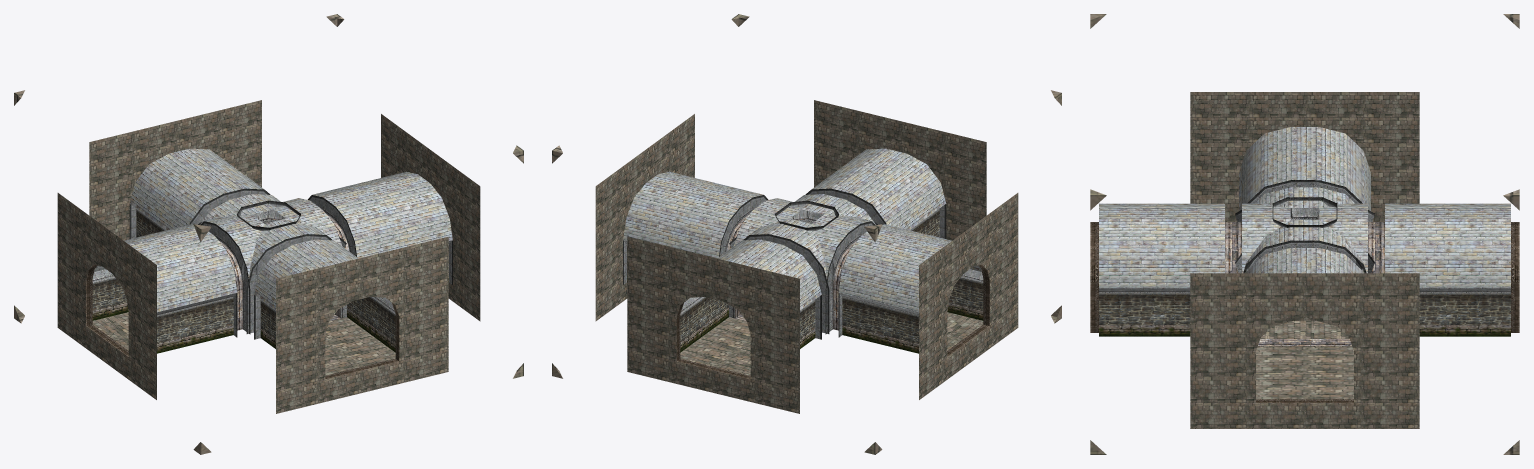
File: lbg_4d.glb
3 views of the same model, side by side, from view 1: azimuth 30°, elevation 25°; view 2: azimuth 150°, elevation 25°; view 3: azimuth 270°, elevation 25° (orthographic). The views are drawn at different scales.
Parts seen in each view (by area): view 1: lbg_4d; view 2: lbg_4d; view 3: lbg_4d.
Boxes of the visible parts, bbox=[...] form: lbg_4d: bbox=[14, 14, 523, 454]; lbg_4d: bbox=[552, 14, 1061, 454]; lbg_4d: bbox=[1090, 14, 1519, 454].
Size of the model in its own units: 15 by 10 by 15.
6 materials, 6 textured.
